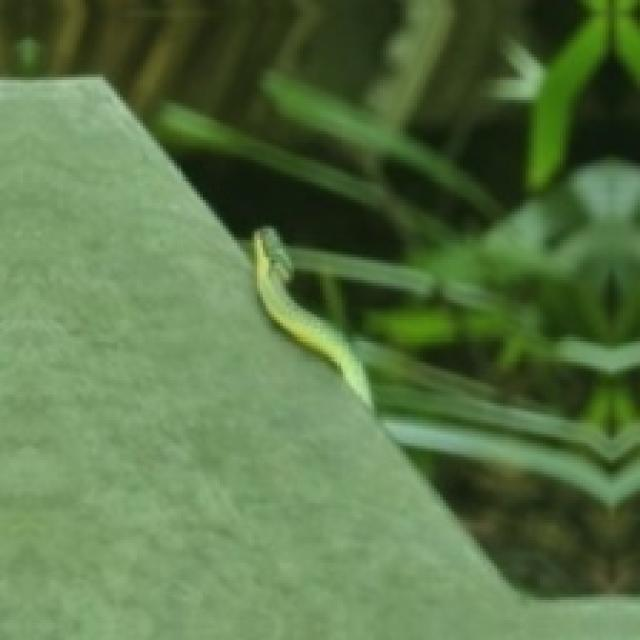paradise tree snake: (251, 226, 637, 509), (251, 226, 371, 406)
